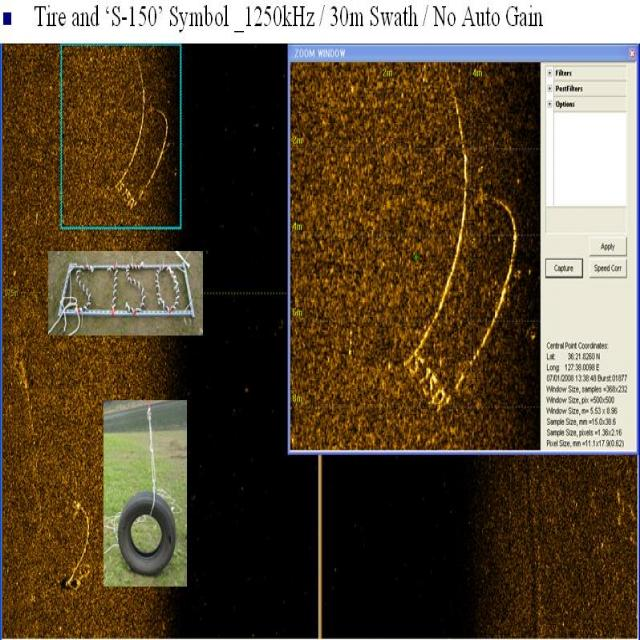other: (394, 87, 525, 415), (104, 60, 168, 211), (57, 487, 94, 602)
